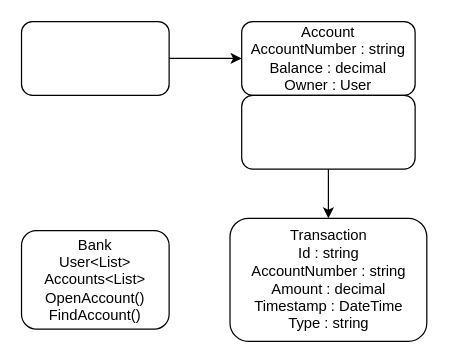
The diagram is 449 pixels wide and 363 high, and some of its shapes have lost their labels. Each missing label, with the centre of its shape:
+Deposit(amount) +Withdraw(amount) +Transactions : <List>: [327,131]
User ID : string Name : string Account : <List>: [94,57]
